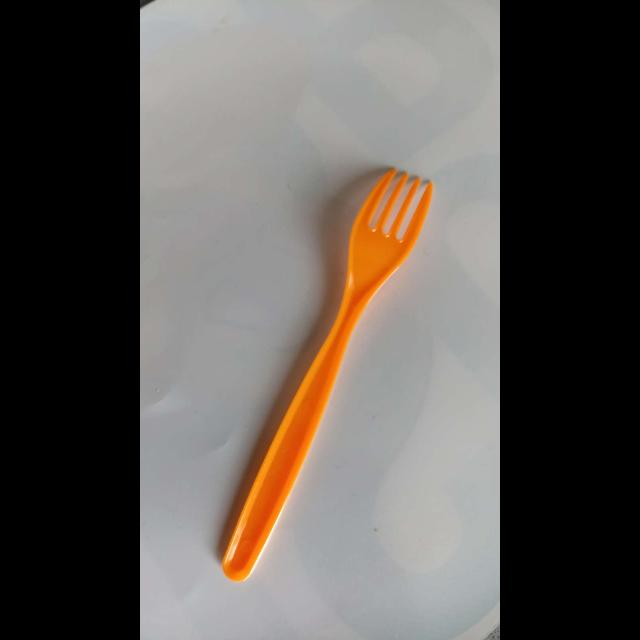plastic_cultery: (220, 160, 448, 588)
